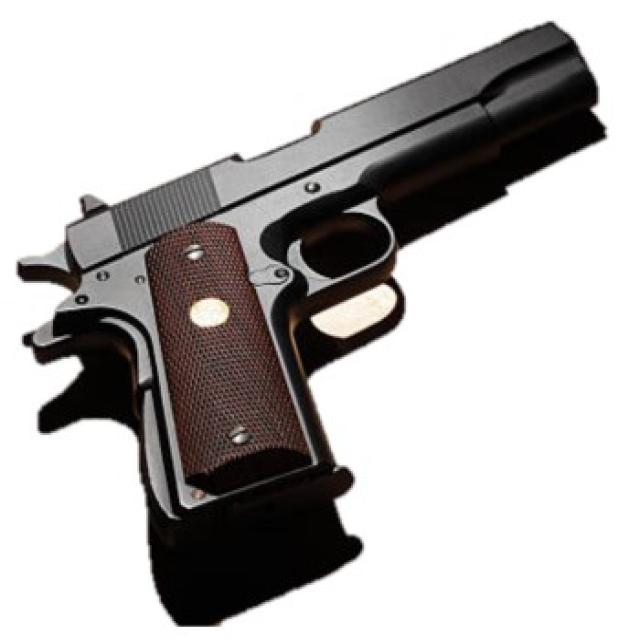pistol: (12, 14, 606, 576)
